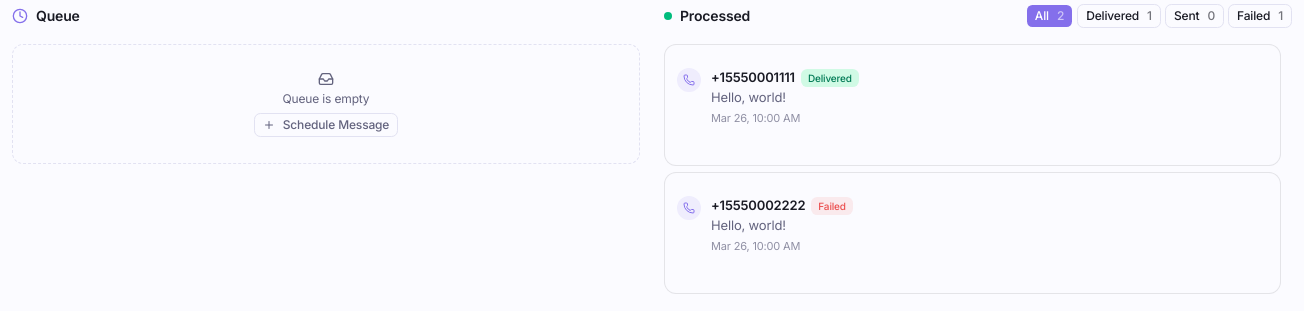
Test: MessageList › filter chips › filters to show only failed messages
expect the text "+15550001111" is shown: met, box top-left (711, 71), bottom-right (795, 84)
expect the text "+15550002222" is shown: met, box top-left (711, 199), bottom-right (805, 212)
Click the button "Failed 1" at (1260,16), box top-left (1228, 4), bottom-right (1292, 28)
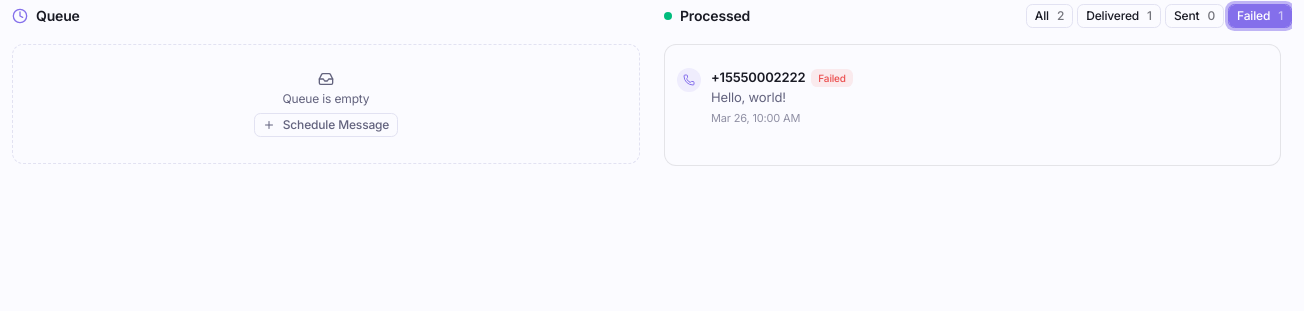
expect the text "+15550002222" is shown: met, box top-left (711, 71), bottom-right (805, 84)
expect the text "+15550001111" is gone: met
